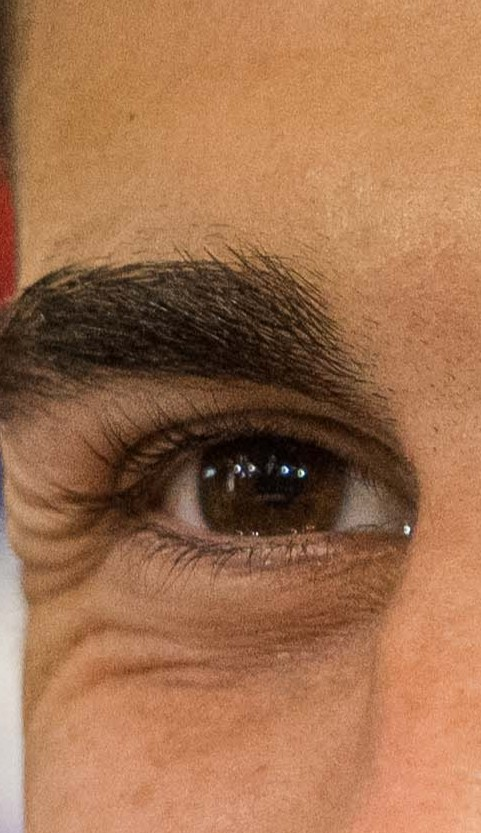iris: (198, 443, 352, 535)
pupil: (229, 443, 314, 516)
sclera: (337, 465, 419, 534), (154, 451, 207, 531)
